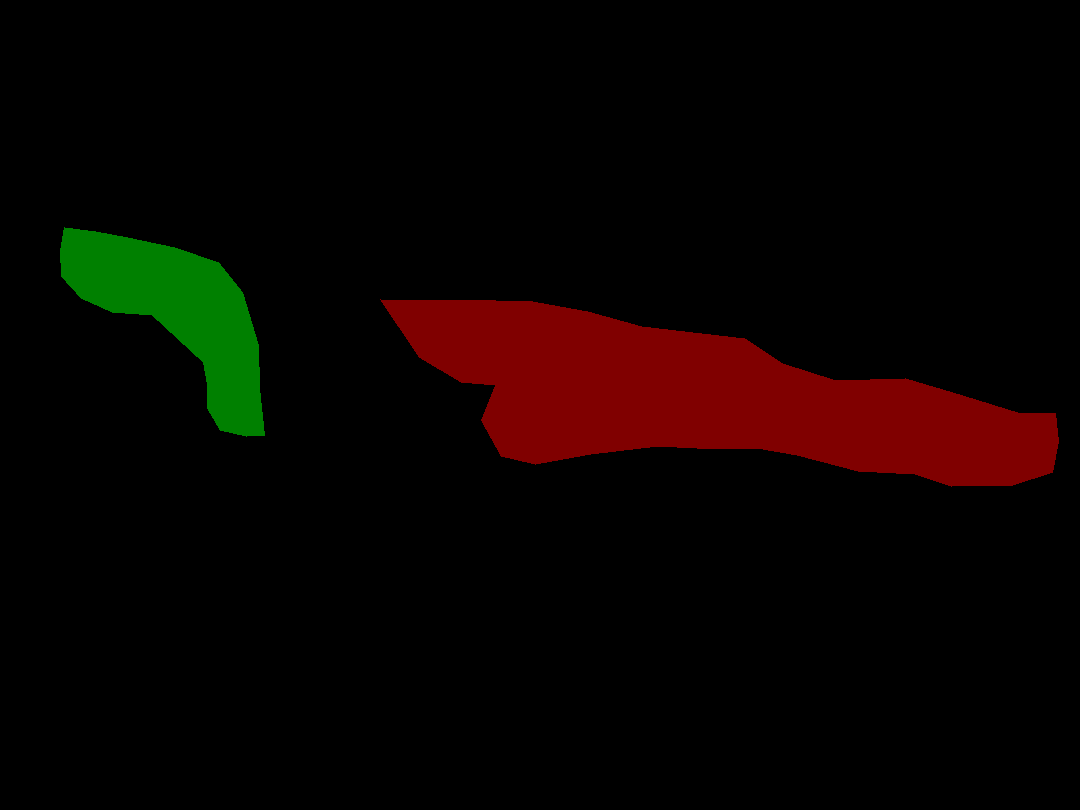fire: (380, 299, 1058, 486), (60, 227, 264, 436)
